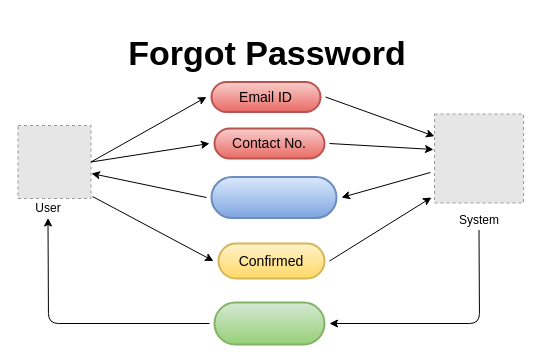
The diagram is 541 pixels wide and 363 high, and some of its shapes have lost their labels. Grey dashed boxes stand in for pictures. The shapes that lost their labels are listed below. From the top down, each one's centre as x and y in pixels, then its label:
At point (273, 197): "Verification Mail".
At point (269, 323): "Temporary Password".
